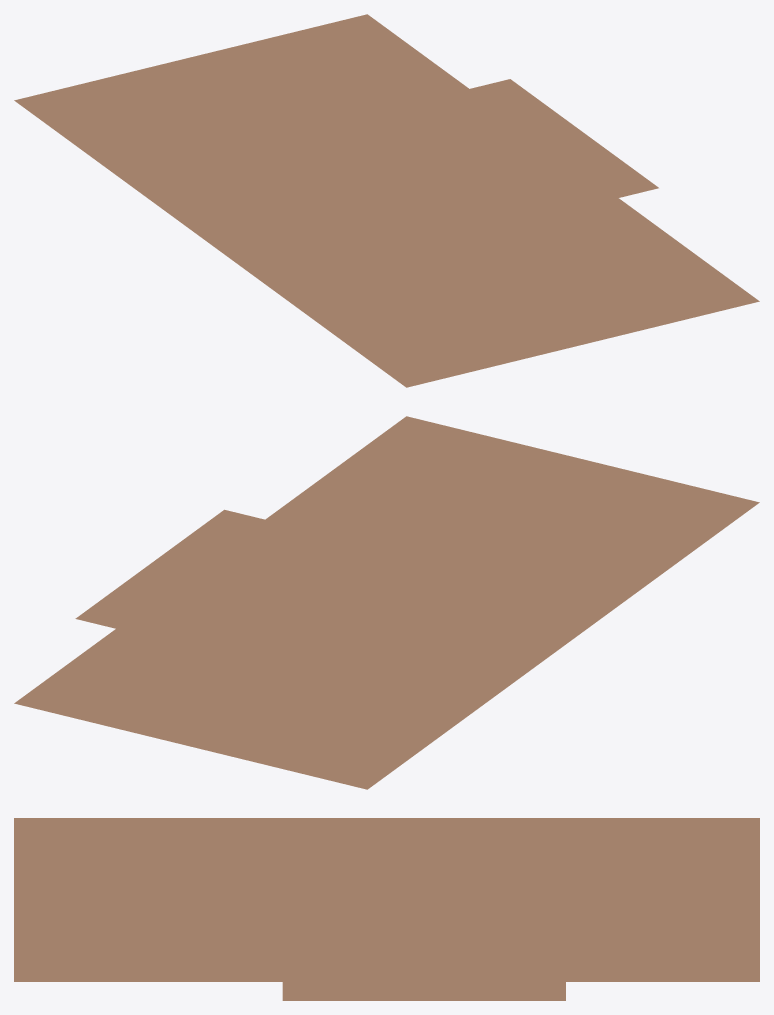
Rendered from Ground.fbx.
3 views of the same model, one above another, from view 1: azimuth 30°, elevation 25°; view 2: azimuth 150°, elevation 25°; view 3: azimuth 270°, elevation 25° (orthographic). The views are drawn at different scales.
Parts seen in each view (by area): view 1: Ground; view 2: Ground; view 3: Ground.
Boxes of the visible parts, bbox=[...] form: Ground: bbox=[14, 14, 759, 387]; Ground: bbox=[14, 416, 759, 789]; Ground: bbox=[14, 818, 759, 1000].
Size of the model in its own units: 29 by 6.86e-15 by 50.
